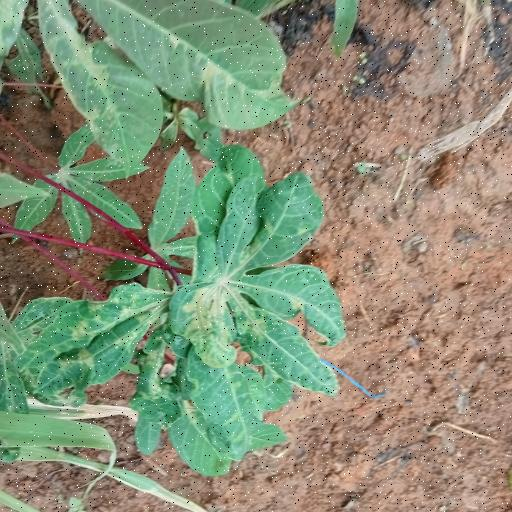Cassava_Mosaic: (181, 168, 354, 447), (3, 0, 271, 156)
